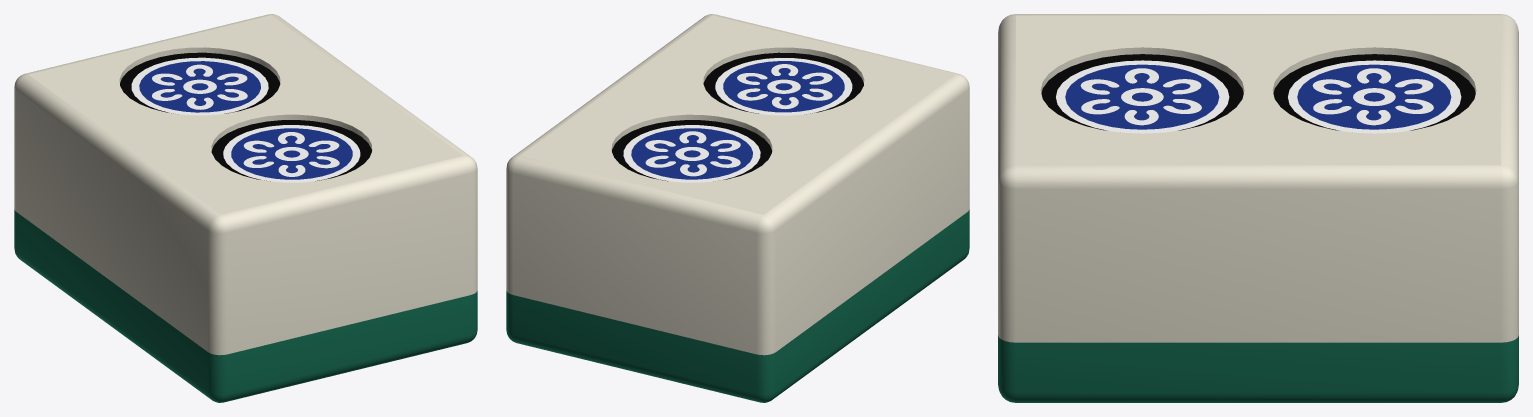
File: Pin2.glb
The picture shows the model from 3 angles, left to right: view 1: azimuth 30°, elevation 25°; view 2: azimuth 150°, elevation 25°; view 3: azimuth 270°, elevation 25°; orthographic projection. The views are drawn at different scales.
Parts seen in each view (by area): view 1: Pin2_body, Pin2_inset; view 2: Pin2_body, Pin2_inset; view 3: Pin2_body, Pin2_inset.
Boxes of the visible parts, x1,y1,x2,y2 form: Pin2_body: (14, 14, 477, 402); Pin2_inset: (120, 52, 371, 182); Pin2_body: (506, 14, 969, 402); Pin2_inset: (612, 52, 863, 182); Pin2_body: (998, 14, 1518, 402); Pin2_inset: (1041, 54, 1475, 133).
Bounding box in the file's own units: 0.024 × 0.016 × 0.032.
